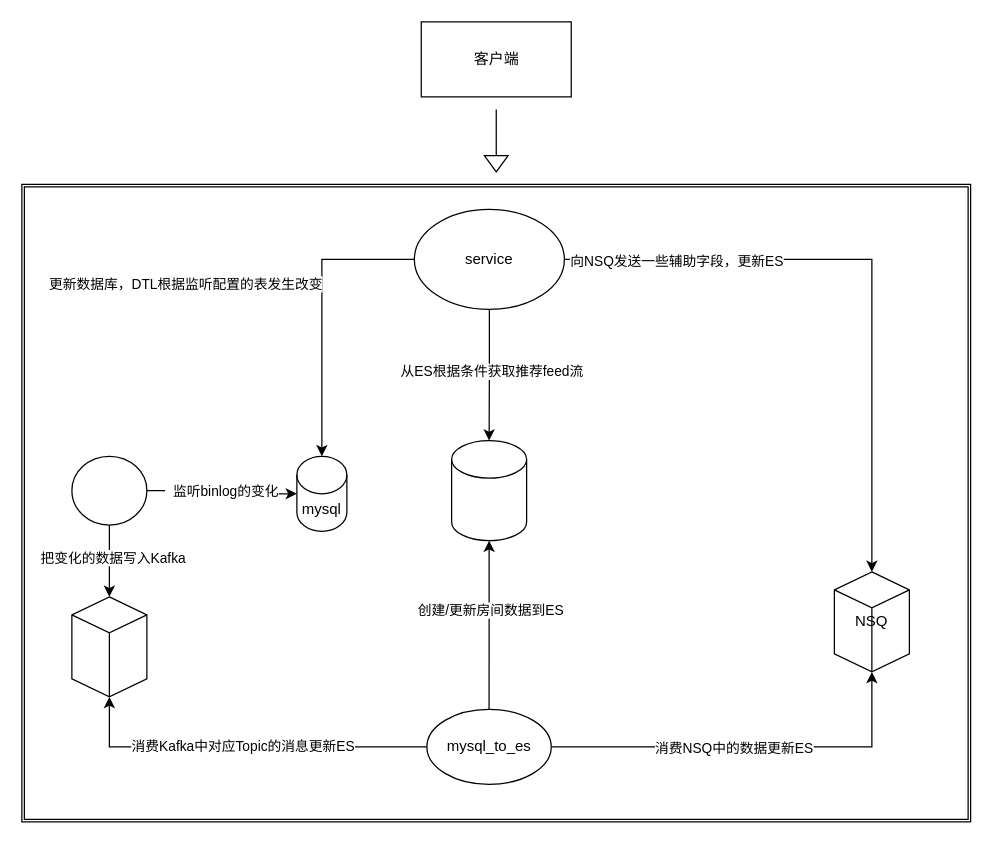
The diagram is 993 pixels wide and 844 high, and some of its shapes have lost their labels. The box of each missing label's shape, as (x1, y1, x2, y2) in pixels:
DTL: (71, 455, 147, 525)
ES: (450, 439, 527, 541)
Kafka: (71, 596, 147, 697)
